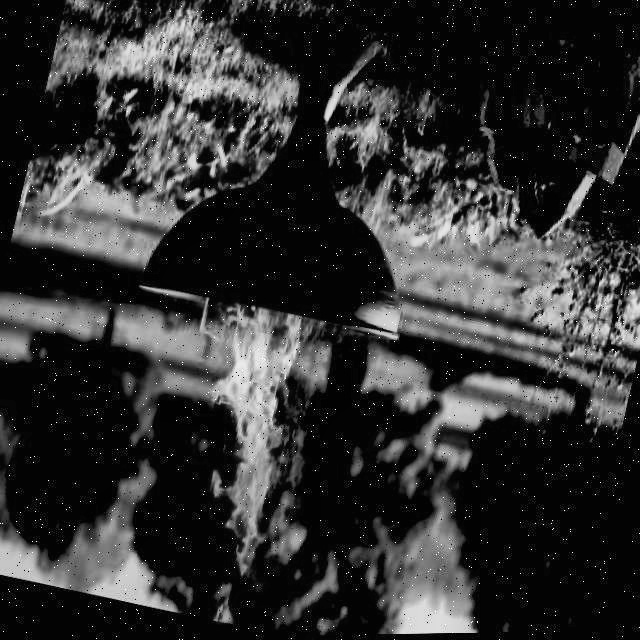Fire: (174, 316, 306, 564)
Smoke: (240, 391, 328, 600), (294, 324, 359, 406)
